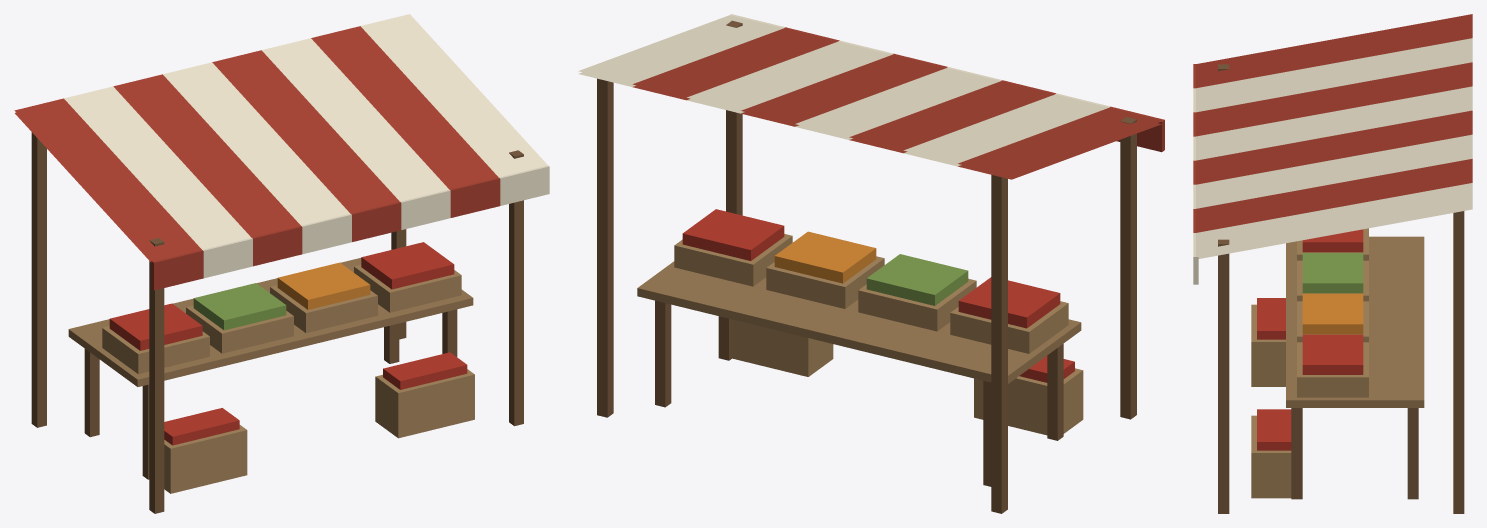
File: life_stall_a.glb
3 renders of one model, left to right at view 1: azimuth 30°, elevation 25°; view 2: azimuth 150°, elevation 25°; view 3: azimuth 270°, elevation 25°, orthographic. The views are drawn at different scales.
Parts seen in each view (by area): view 1: life_stall_a; view 2: life_stall_a; view 3: life_stall_a.
Part boxes in pixels (bbox=[...]): life_stall_a: bbox=[14, 14, 549, 513]; life_stall_a: bbox=[578, 14, 1164, 513]; life_stall_a: bbox=[1193, 14, 1472, 513].
Size of the model in its own units: 3.3 by 2.5 by 2.02.
